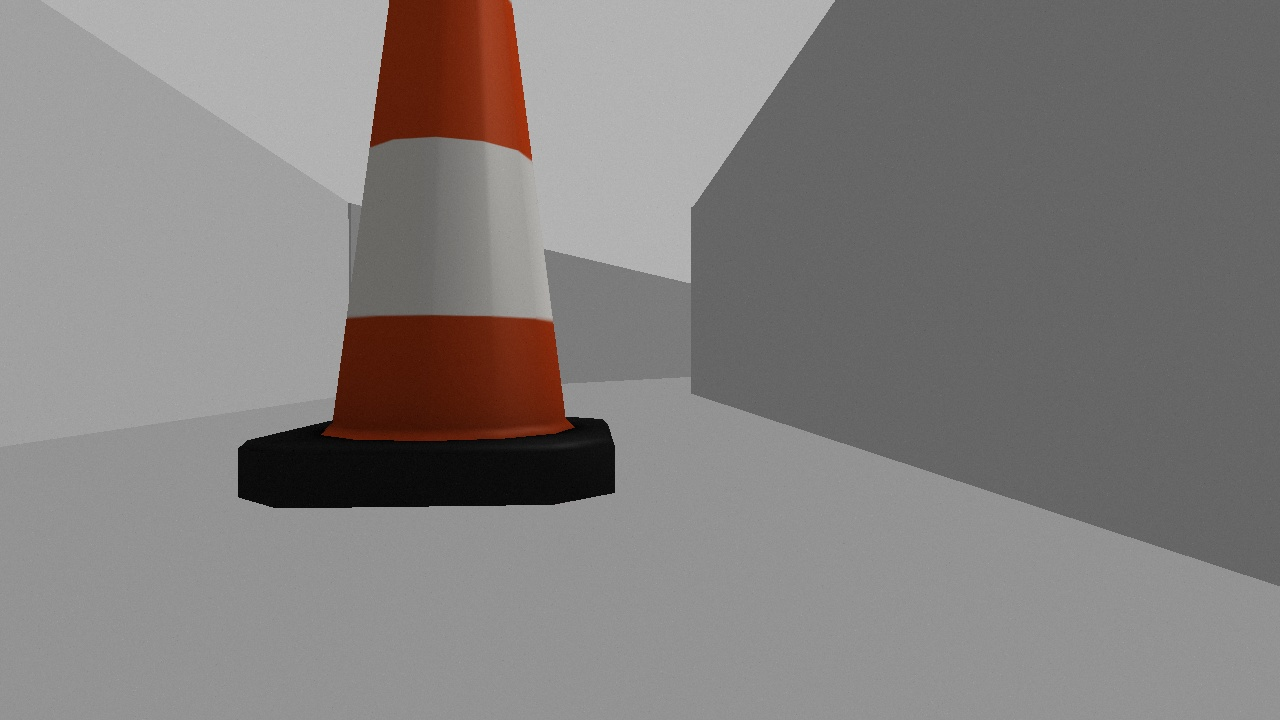barricade: (236, 1, 618, 506)
